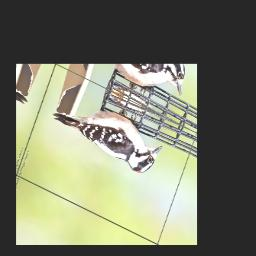Woodpecker: (45, 80, 169, 182)
